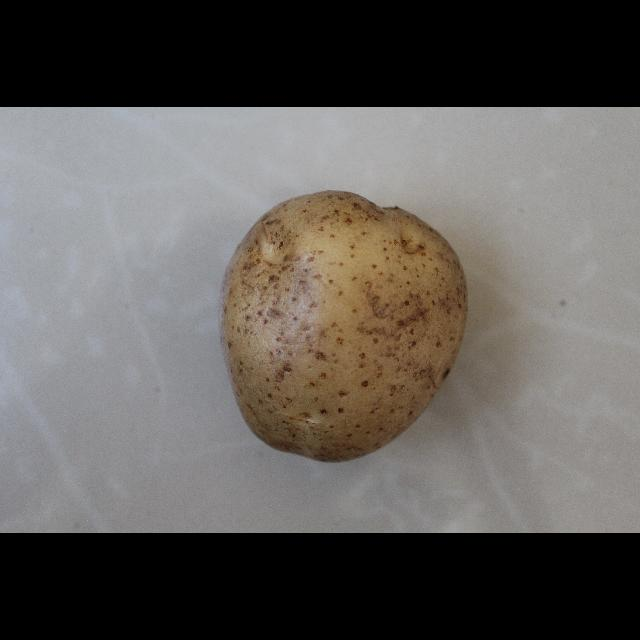Diseased-fungal potato: (210, 182, 470, 462)
